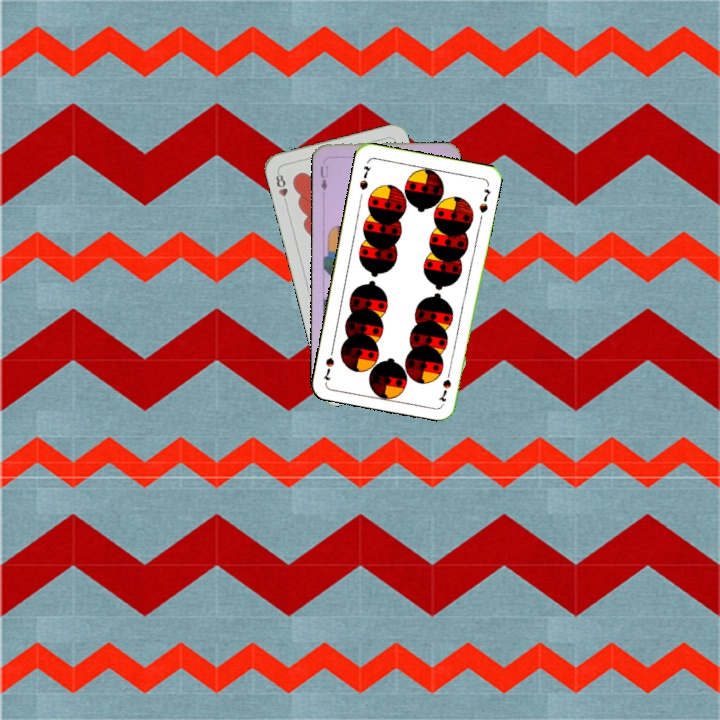EU: (317, 162, 330, 193)
H8: (272, 168, 290, 208)
S7: (435, 365, 454, 404), (355, 162, 374, 192)
